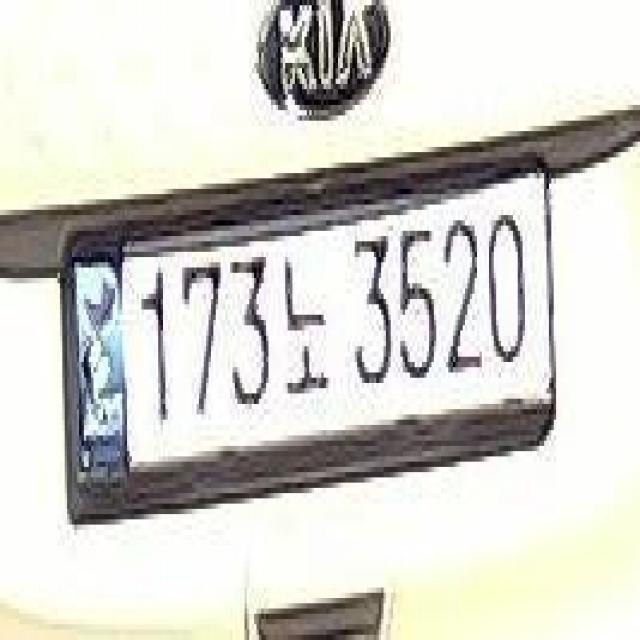illegal_plate: (60, 159, 560, 511)
